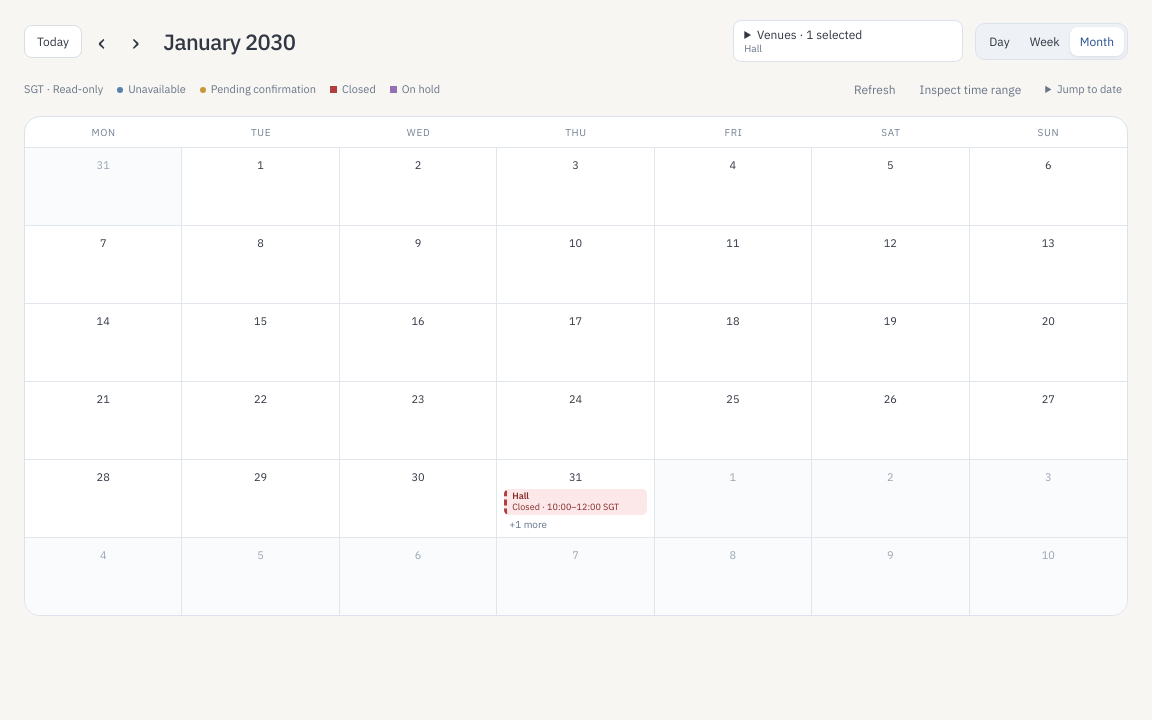
Test: SCRUM174 month prioritises closed preview and day shows reason and active hold
The image size is (1152, 720).
Check: the text "Hall Closed · 10:00–12:00 SGT" is shown, box [504, 489, 647, 515]
Click the button with aria-label "Open 2030-01-31" at [576, 498], box [497, 459, 655, 537]
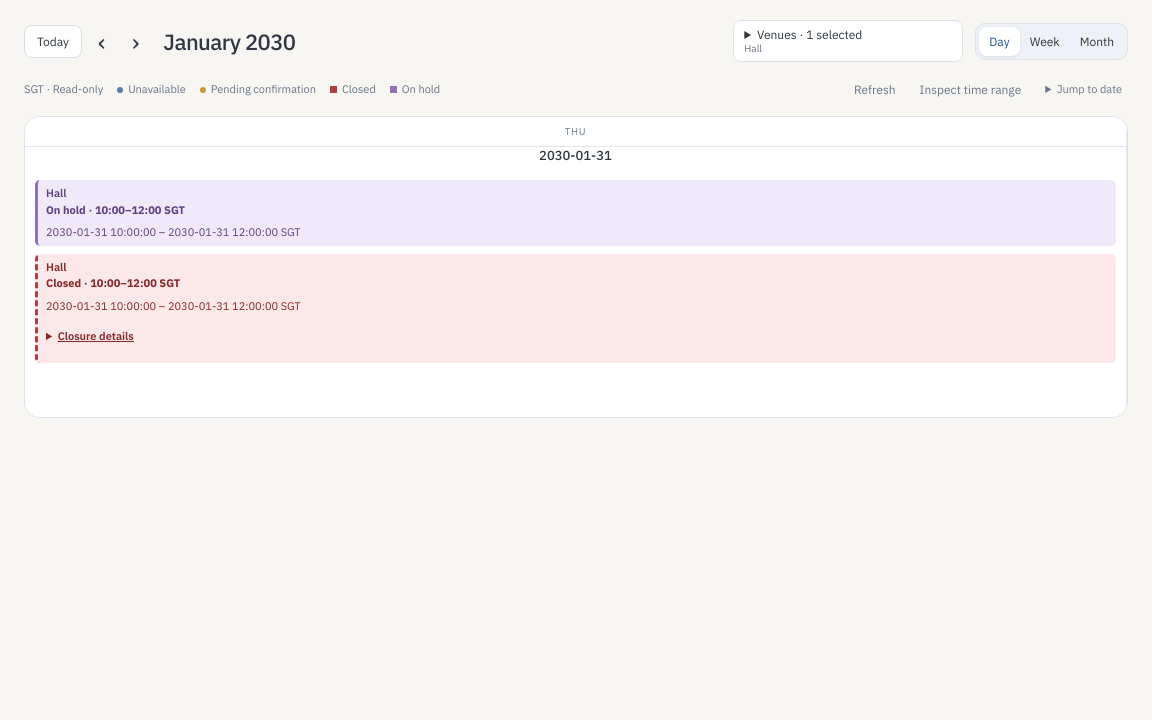
Check: the text "Hall On hold · 10:00–12:00 SGT" is shown, box [46, 186, 185, 216]
Click the heading "Closure details" at [96, 336], box [58, 329, 134, 343]
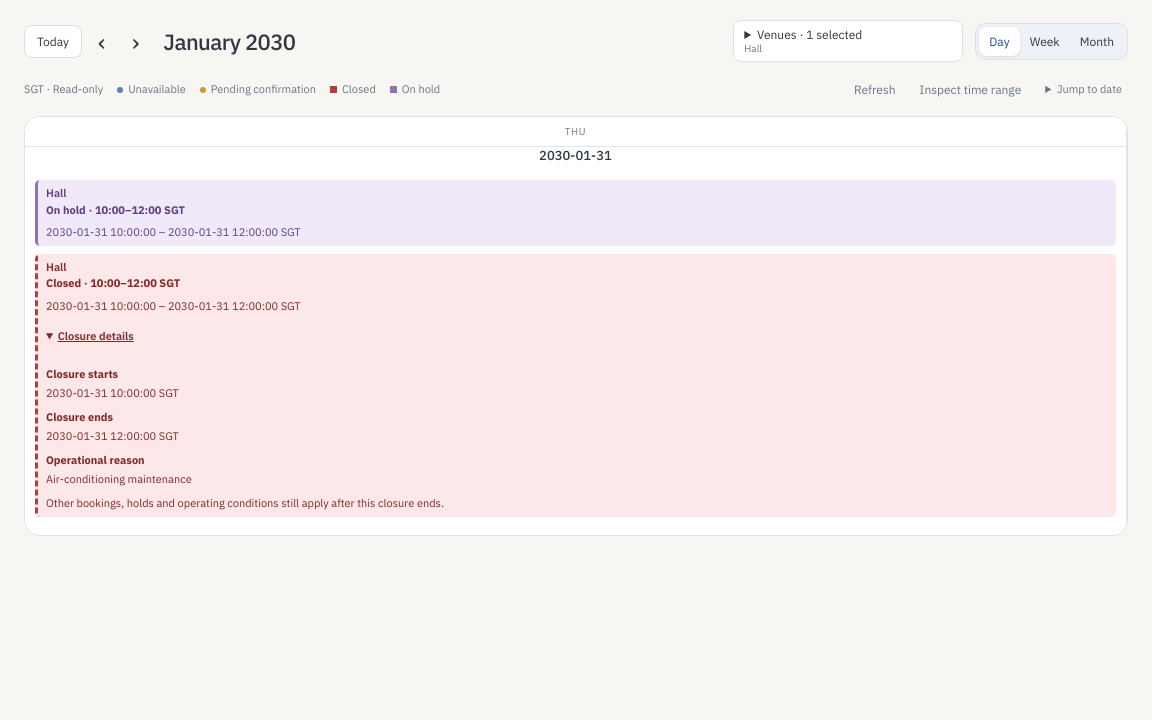
Check: the text "Air-conditioning maintenance" is shown, box [46, 472, 192, 486]
